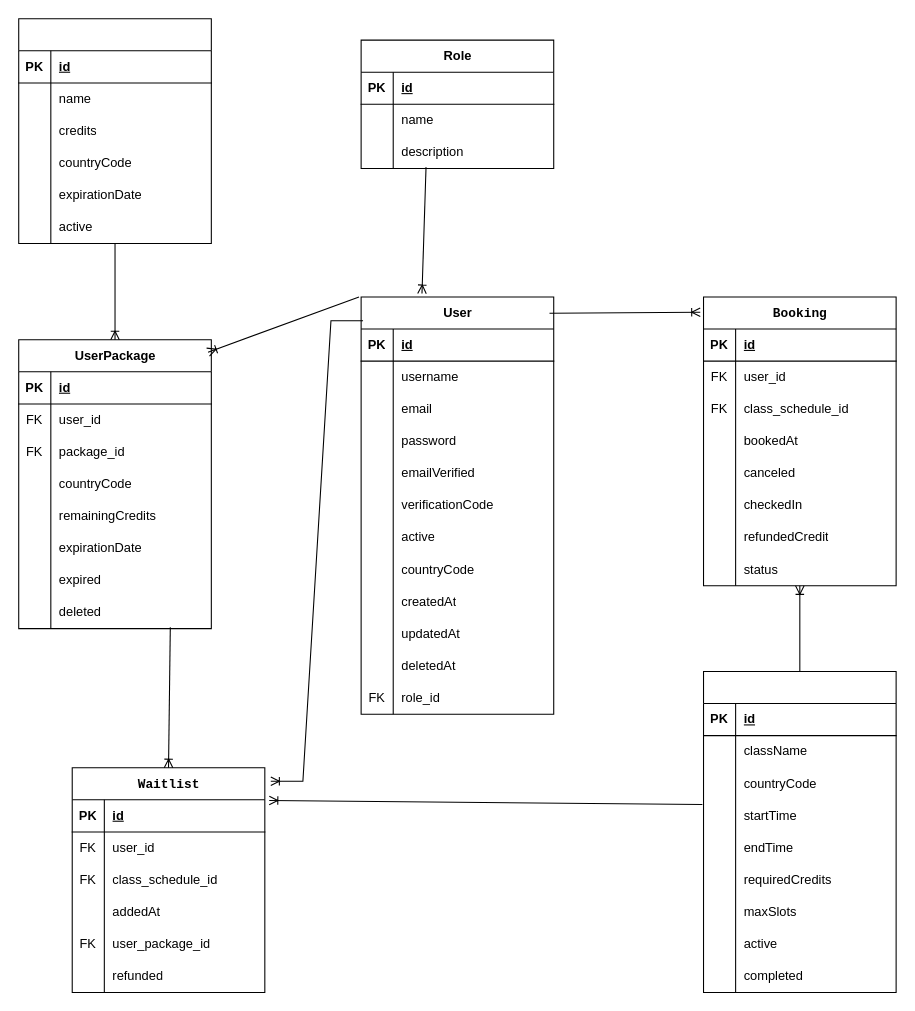
Some shapes in this 915 by 1011 pixel diagram are drawn without their labels. Each missing label, with the box of its shape:
ClassSchedule: (702, 670, 896, 992)
Package: (18, 18, 211, 243)
